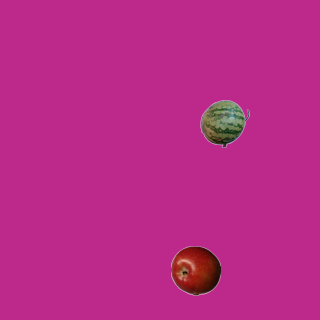Apple Braeburn: (170, 245, 220, 295)
Watermelon: (199, 98, 249, 148)
